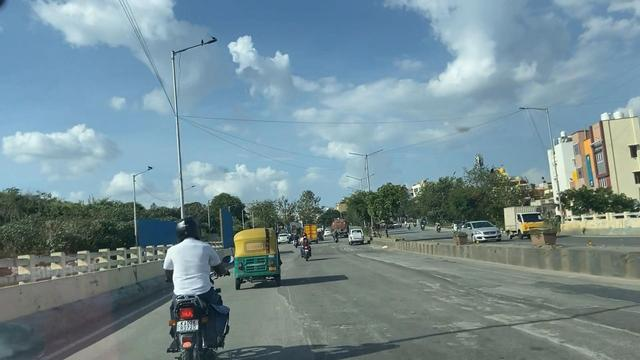RoadDamages: (409, 267, 640, 360), (270, 287, 325, 358)
